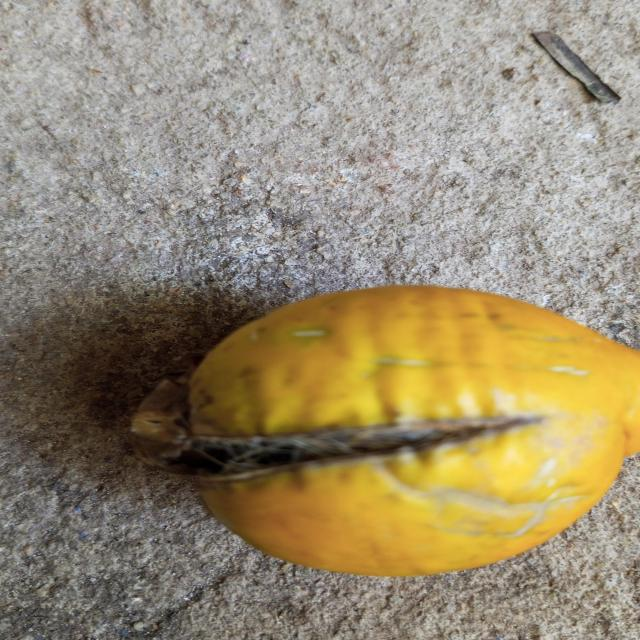damaged: (132, 286, 640, 580)
